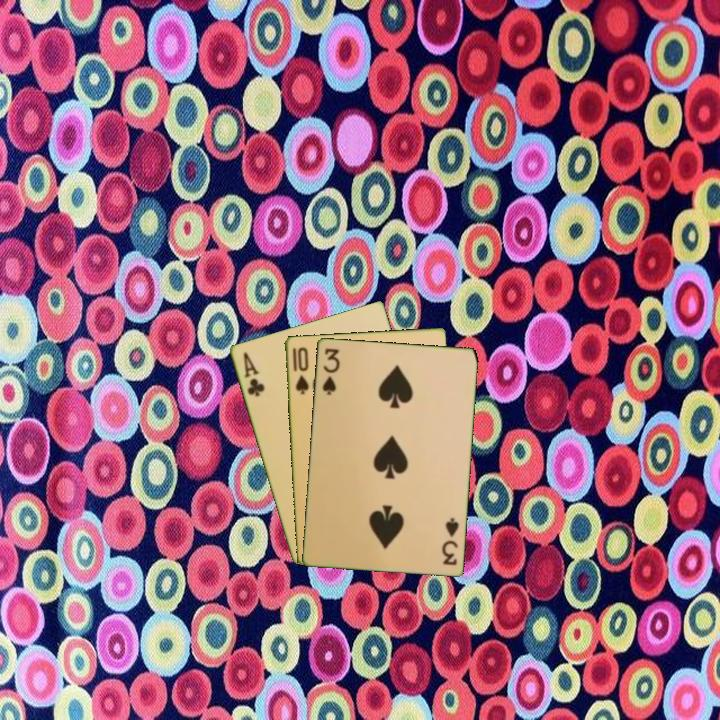10s: (289, 343, 311, 397)
3s: (438, 514, 461, 568), (319, 344, 342, 397)
Ac: (239, 348, 267, 399)
